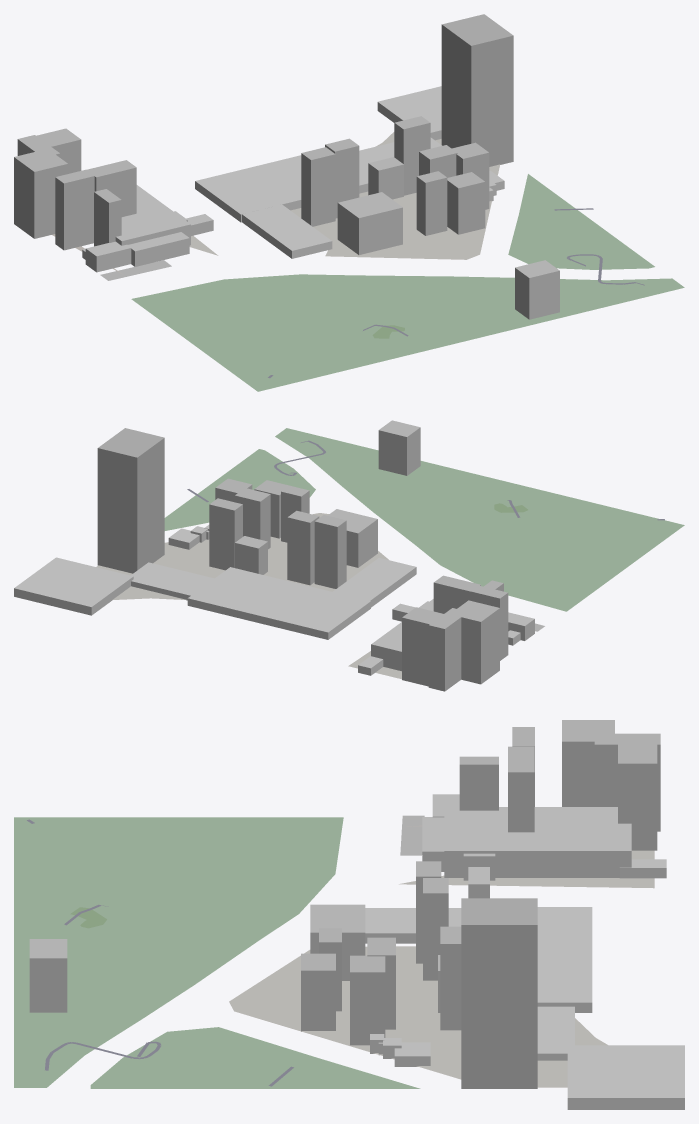
The model's file is 121_79_mid.glb.
3 views of the same model, one above another, from view 1: azimuth 30°, elevation 25°; view 2: azimuth 150°, elevation 25°; view 3: azimuth 270°, elevation 25° (orthographic). The views are drawn at different scales.
Size of the model in its own units: 555 by 142 by 524.
